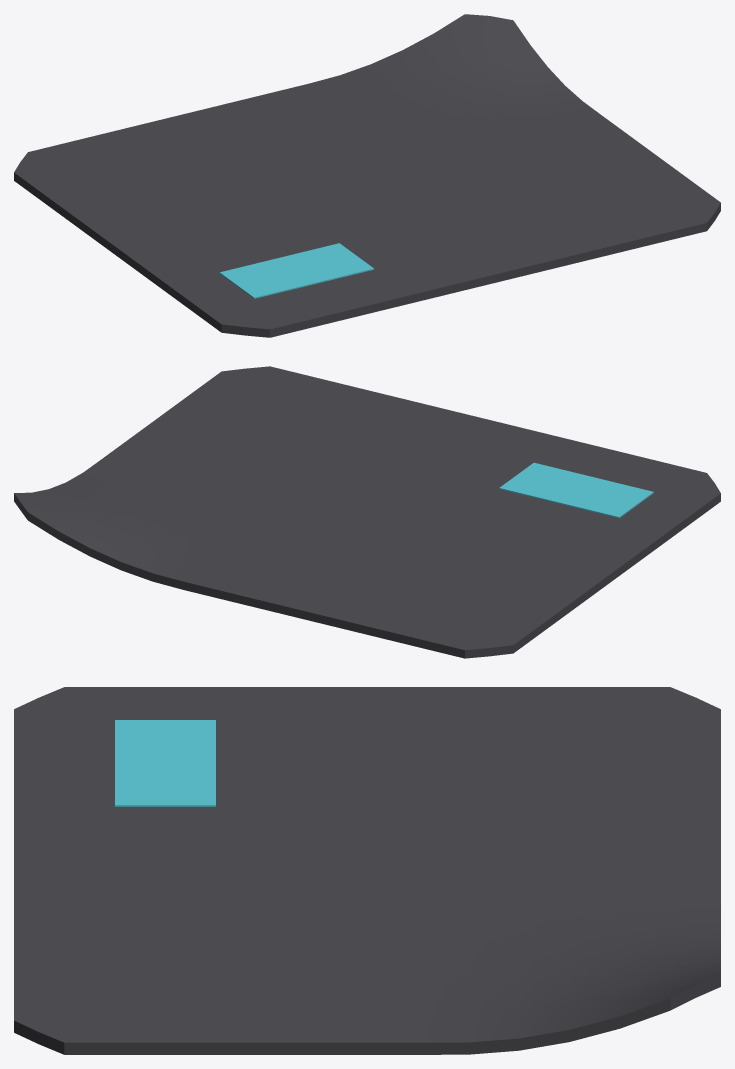
The model's file is electronics_mousemat.fbx.
The picture shows the model from 3 angles, top to bottom: view 1: azimuth 30°, elevation 25°; view 2: azimuth 150°, elevation 25°; view 3: azimuth 270°, elevation 25°; orthographic projection. The views are drawn at different scales.
Parts seen in each view (by area): view 1: electronics_mousemat; view 2: electronics_mousemat; view 3: electronics_mousemat.
Part boxes in pixels (<box>): electronics_mousemat: <box>14,14,720,337</box>; electronics_mousemat: <box>14,366,720,658</box>; electronics_mousemat: <box>14,687,720,1054</box>.
Size of the model in its own units: 0.25 by 0.0192 by 0.21.
